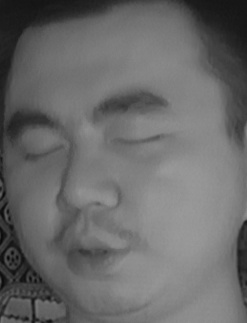blink: (108, 120, 168, 159), (19, 136, 67, 168)
mouth: (50, 219, 140, 283)
